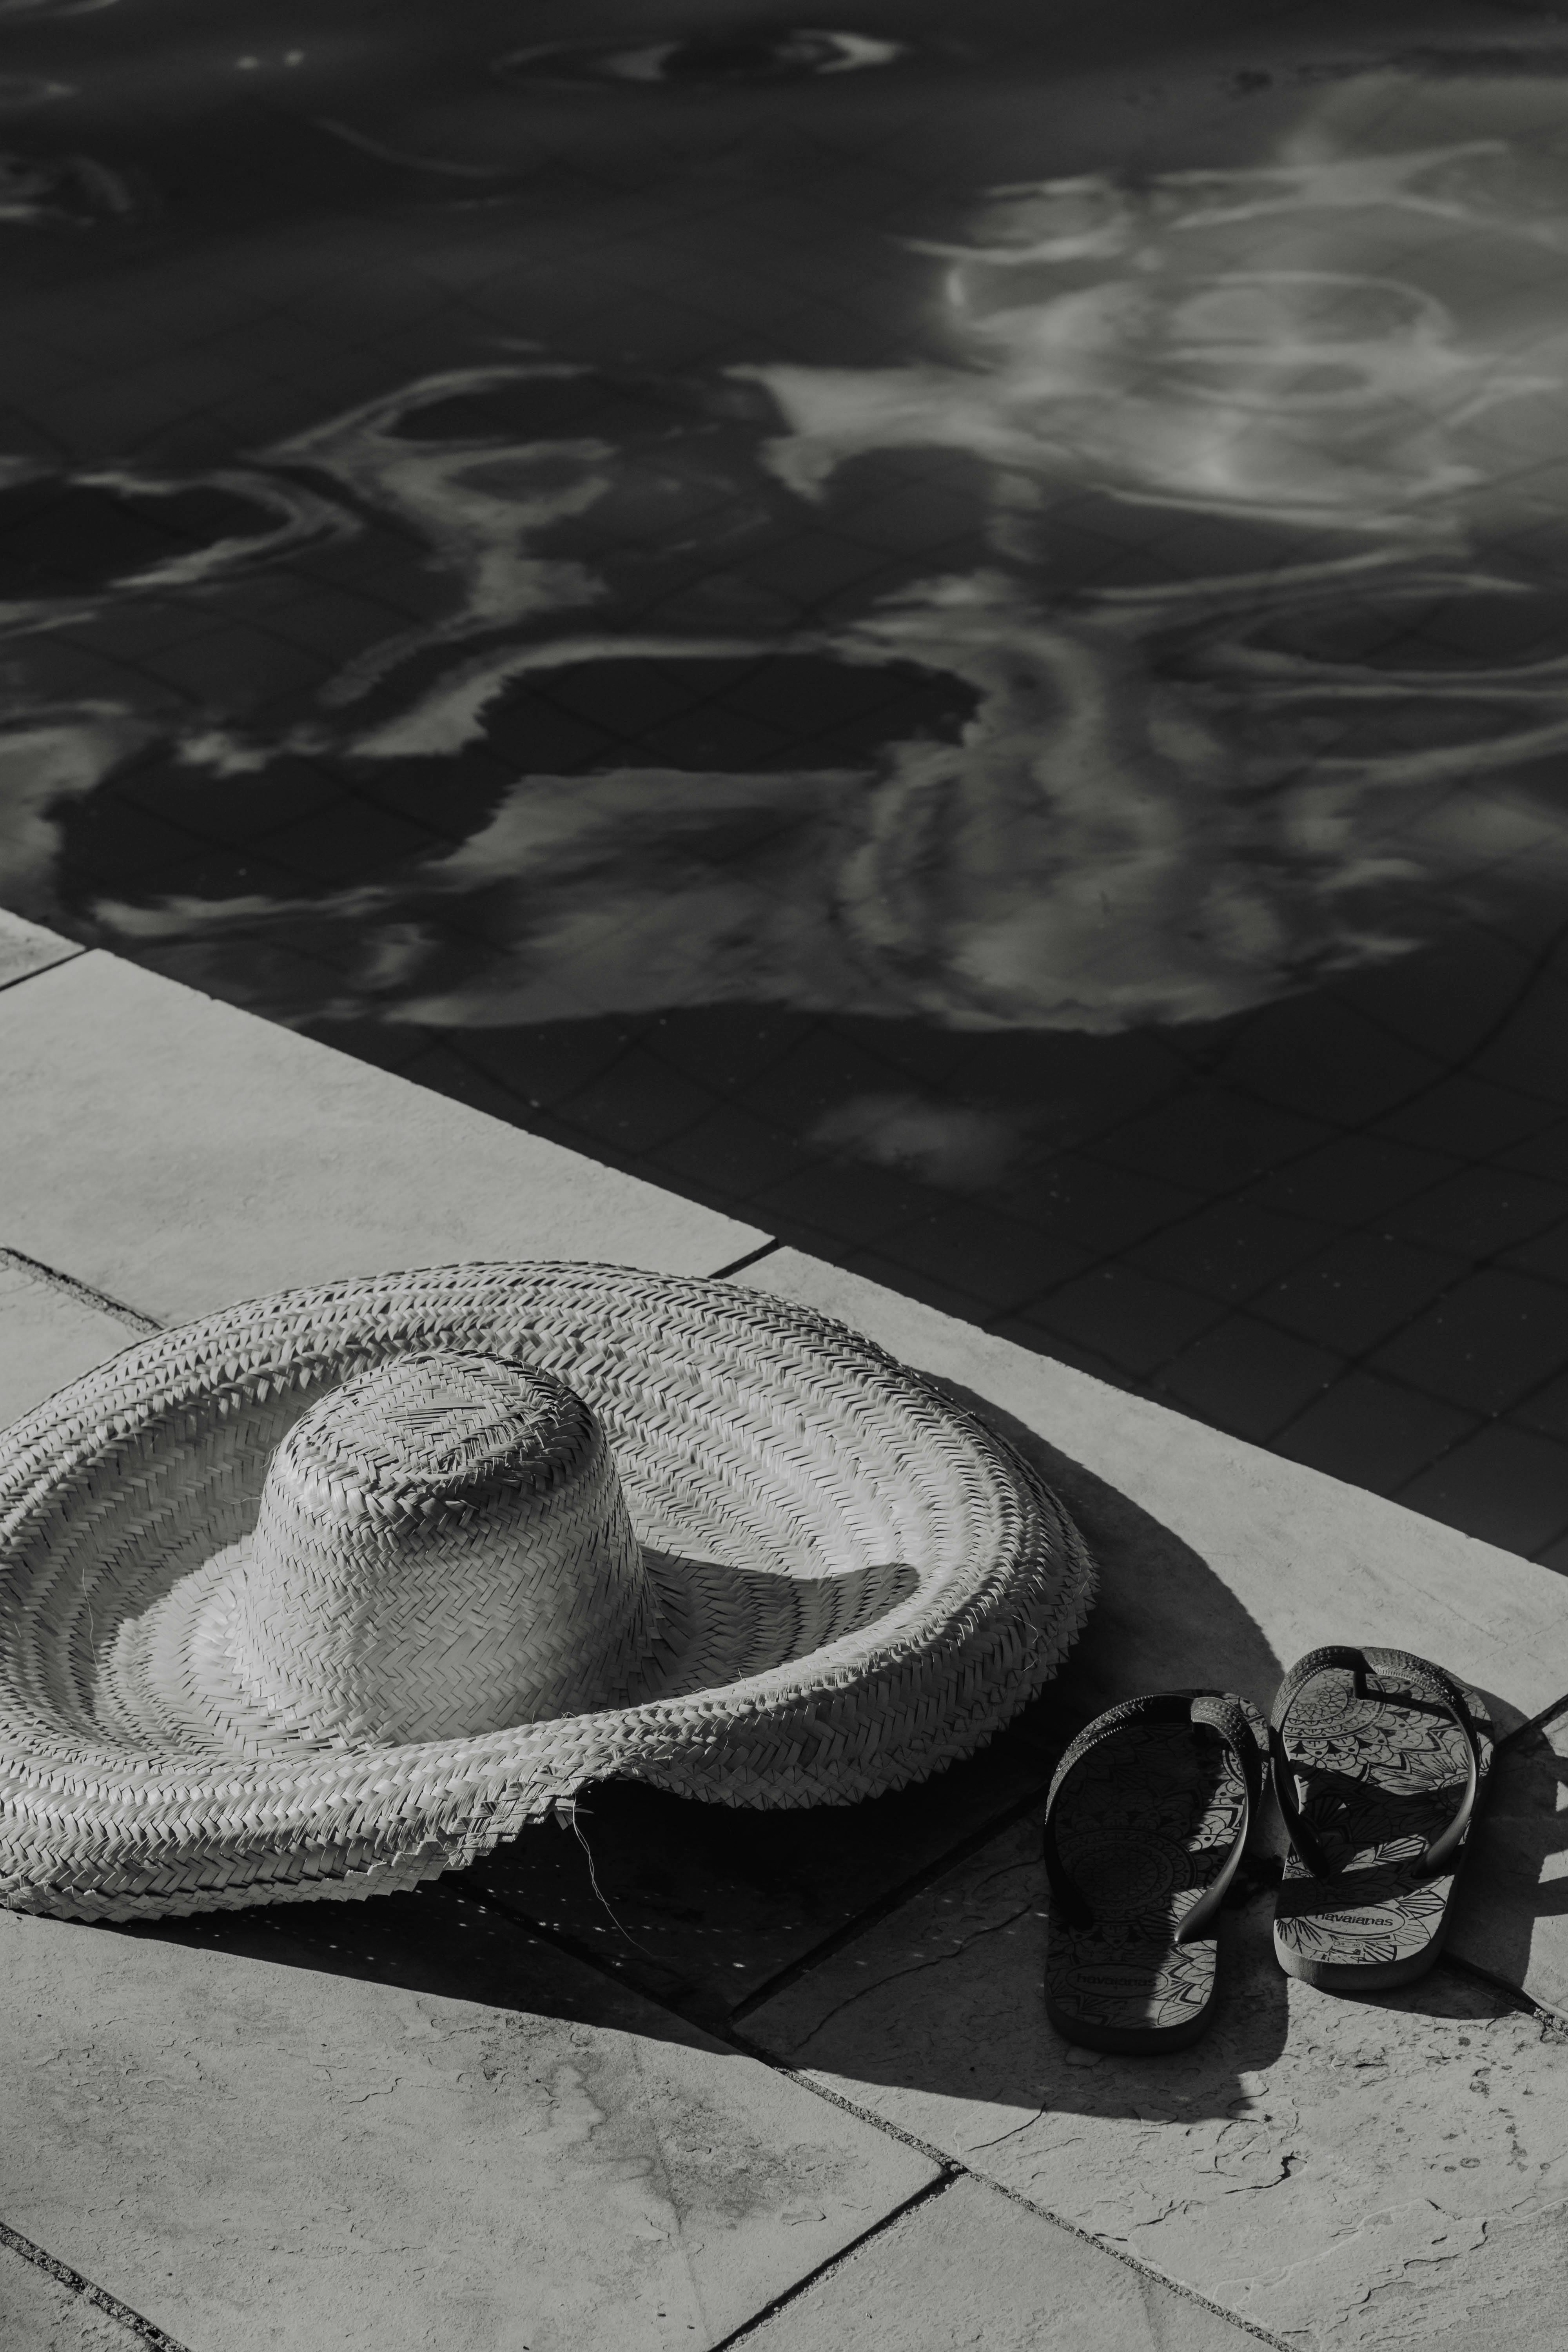Footwear: (1043, 1600, 1526, 2146)
